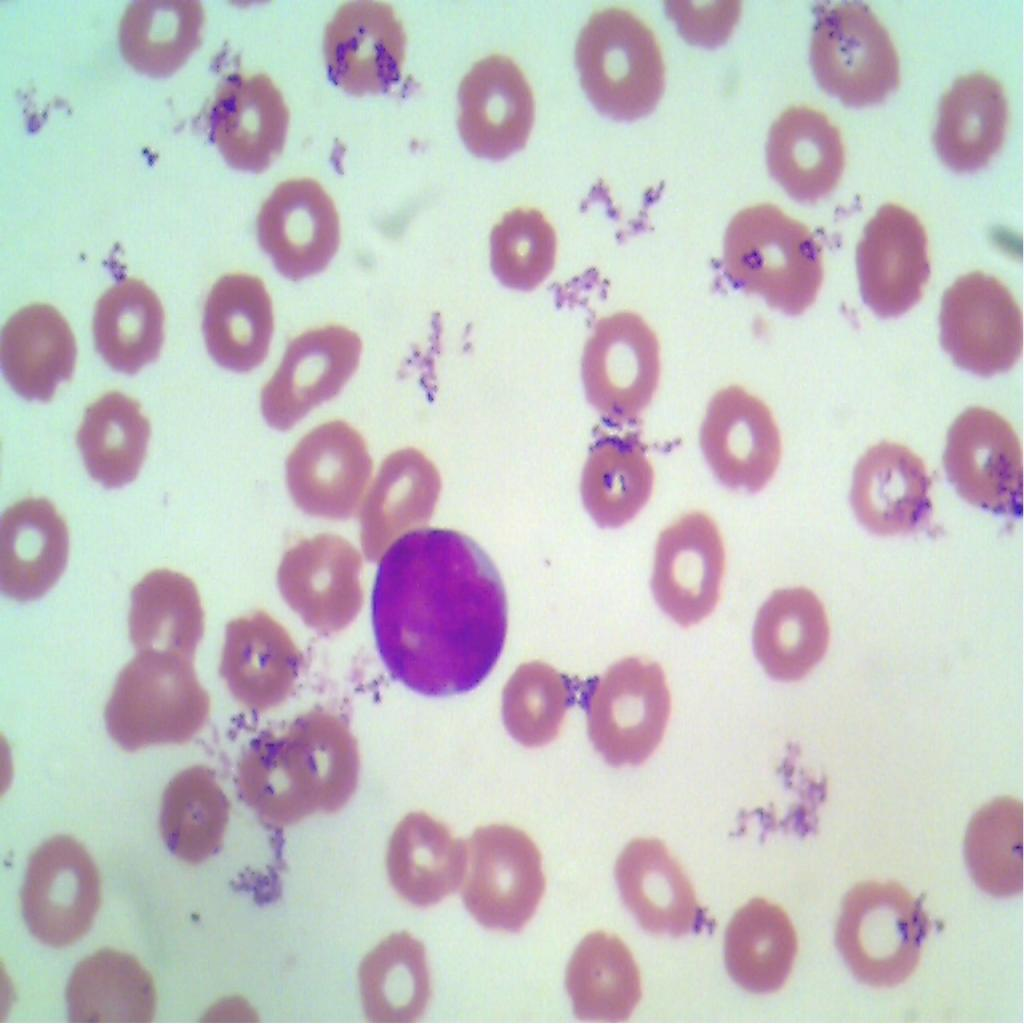Eritrosit: (919, 58, 1023, 191), (569, 4, 671, 132), (259, 319, 371, 431), (690, 368, 784, 501), (796, 1, 910, 109), (719, 195, 818, 319), (11, 828, 106, 954), (188, 58, 291, 172), (103, 644, 211, 751), (606, 828, 710, 938), (578, 298, 668, 424), (646, 506, 734, 634), (584, 648, 670, 774), (454, 818, 539, 945), (451, 50, 542, 168), (279, 414, 374, 527), (272, 520, 366, 634), (935, 268, 1023, 387), (842, 434, 936, 545), (258, 168, 346, 284), (114, 562, 204, 675), (941, 401, 1023, 525), (758, 108, 852, 215), (316, 0, 411, 105), (841, 879, 930, 991), (215, 608, 303, 717), (750, 578, 838, 687), (278, 705, 368, 811), (355, 445, 438, 559), (0, 488, 76, 611), (151, 758, 231, 874), (571, 432, 664, 531), (0, 298, 83, 404), (560, 922, 646, 1023), (74, 385, 156, 488), (476, 200, 562, 298), (62, 934, 156, 1023), (722, 895, 800, 1002), (350, 924, 432, 1023), (201, 263, 275, 368), (382, 805, 464, 898), (93, 278, 169, 376), (118, 0, 210, 79), (238, 730, 314, 824), (501, 654, 571, 752), (968, 781, 1023, 900)
Limfoblast: (368, 518, 513, 708)
